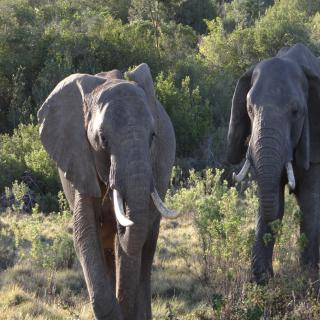Elephant: (35, 60, 186, 320), (227, 36, 320, 293)
